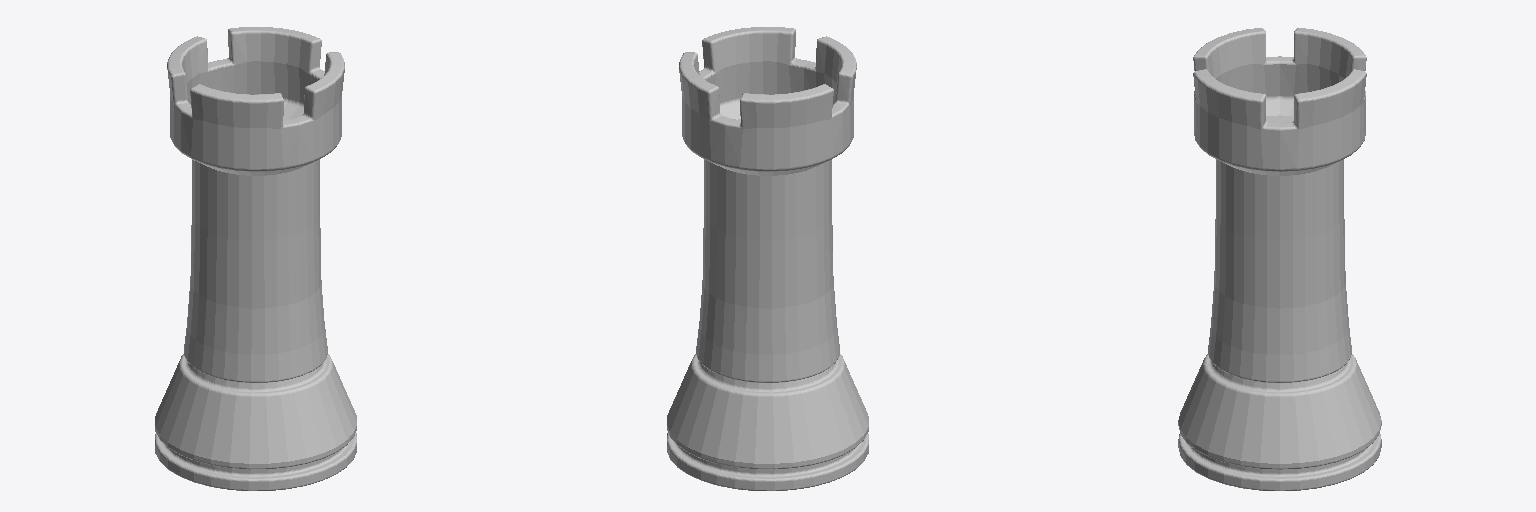
The model's file is rook.obj.
3 views of the same model, side by side, from view 1: azimuth 30°, elevation 25°; view 2: azimuth 150°, elevation 25°; view 3: azimuth 270°, elevation 25° (orthographic).
Parts seen in each view (by area): view 1: Cylinder_Metal_Baked; view 2: Cylinder_Metal_Baked; view 3: Cylinder_Metal_Baked.
Boxes of the visible parts, x1,y1,x2,y2 form: Cylinder_Metal_Baked: [155, 27, 356, 490]; Cylinder_Metal_Baked: [667, 27, 868, 490]; Cylinder_Metal_Baked: [1178, 28, 1381, 490].
Size of the model in its own units: 2.78 by 5.84 by 2.78.